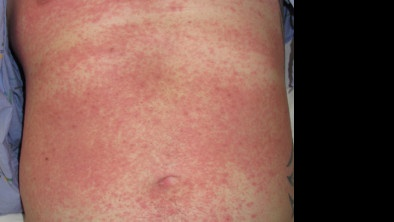SJS-TEN: (17, 7, 300, 222), (0, 0, 189, 71)
